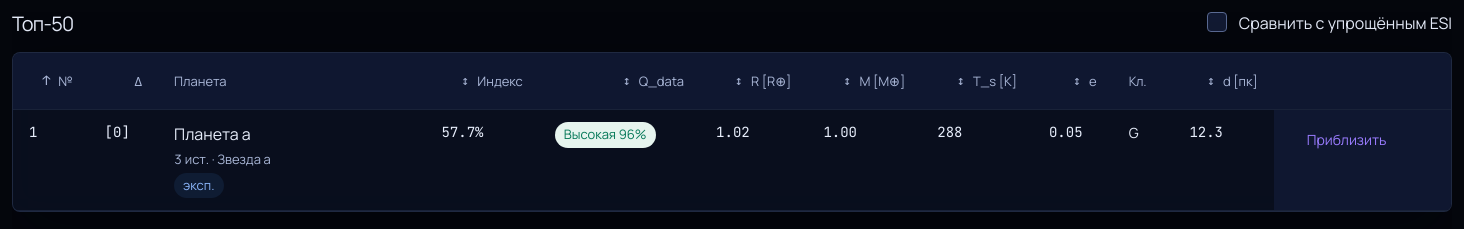
Test case: сортировка › выключение служебных данных при сортировке по Q_data сбрасывает сортировку на rank asc
Click the button "Q_data ↕": (654,81) [623,65,684,97]
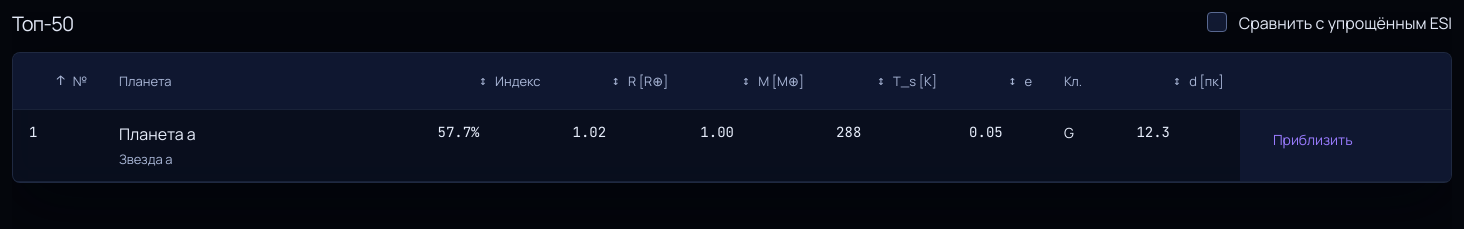
Result: the button "Q_data" is gone
